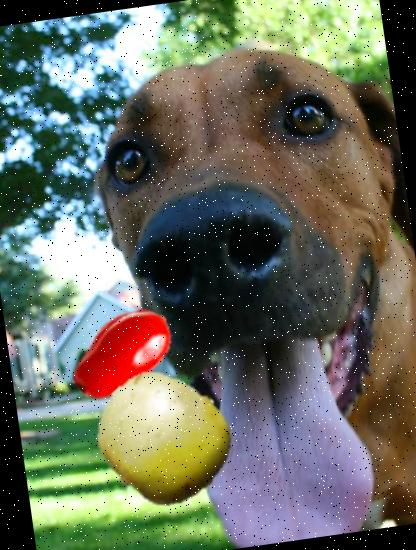Apple: (88, 362, 240, 514)
Tomato: (60, 290, 185, 416)
